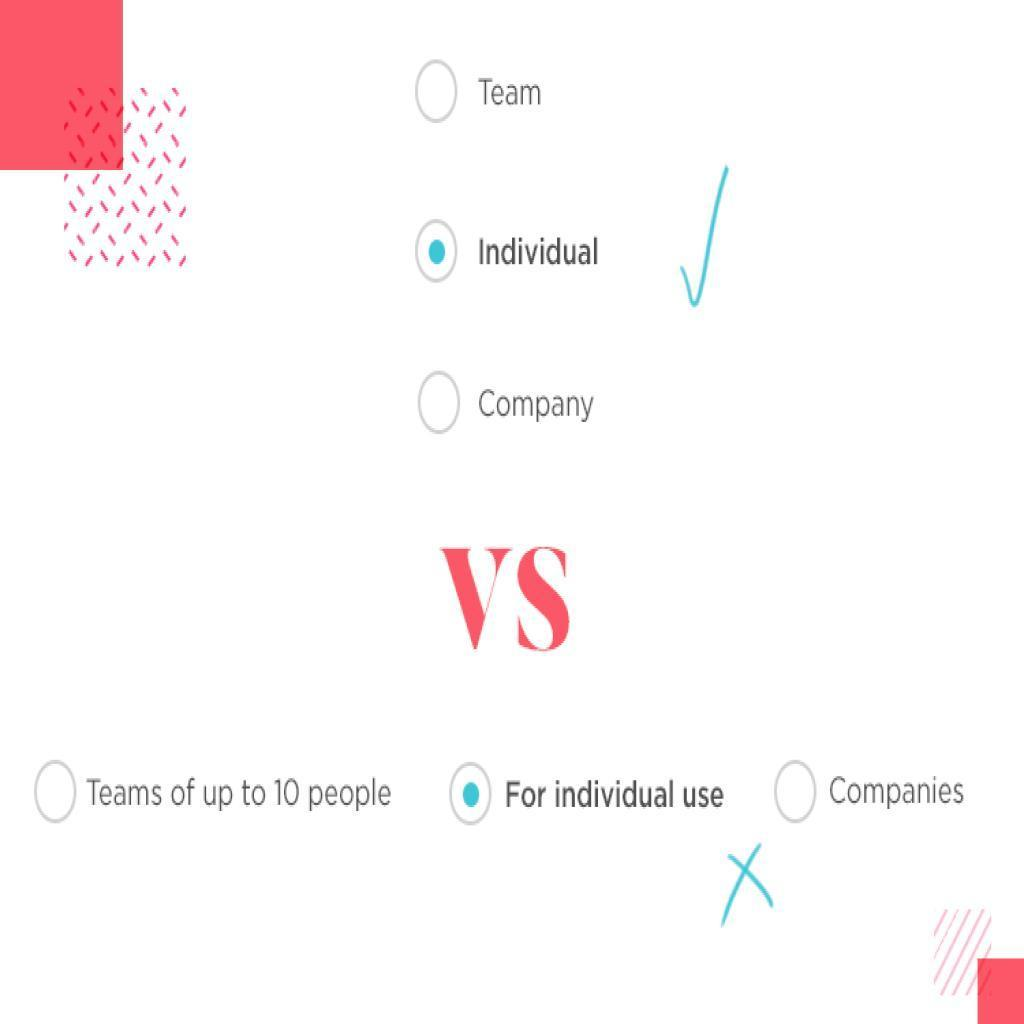label: (86, 774, 397, 815), (506, 775, 730, 818), (830, 772, 970, 815), (475, 234, 604, 272), (475, 385, 595, 424), (476, 74, 548, 115)
radio: (773, 759, 820, 833), (414, 217, 463, 286), (32, 759, 81, 828), (415, 56, 460, 131), (419, 367, 463, 439), (449, 762, 494, 828)
